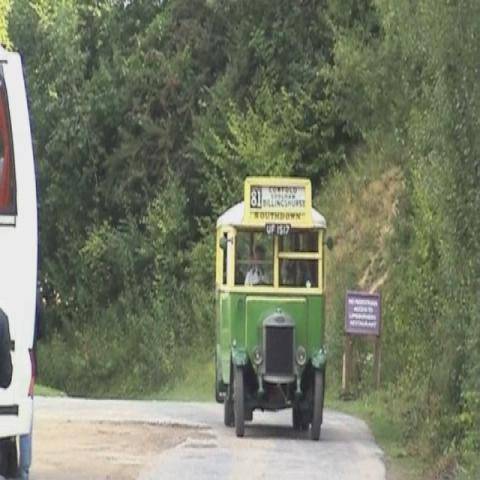bus: (215, 178, 329, 442)
truck: (0, 45, 38, 472)
